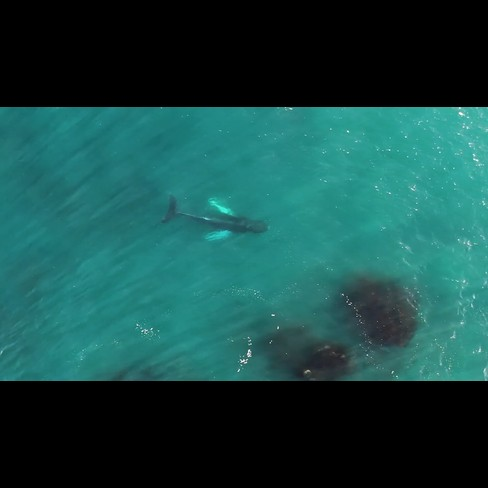hump: (153, 183, 278, 245)
